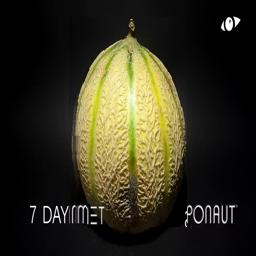Melon Fresh: (69, 17, 187, 227)
